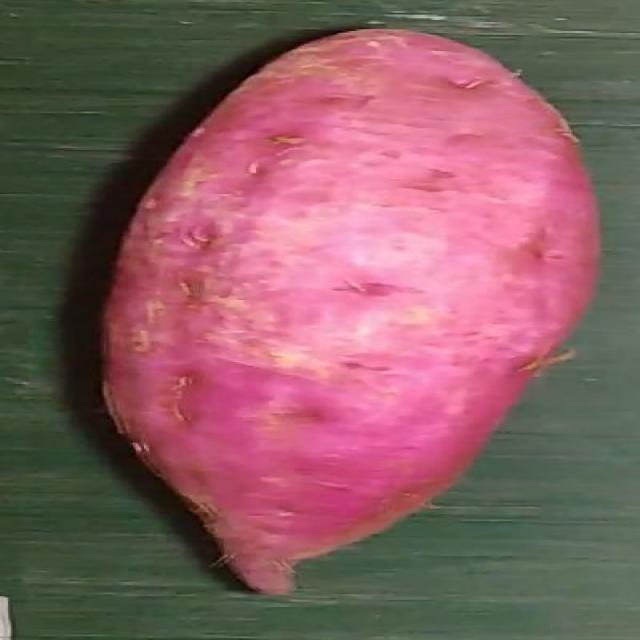Sweet Potato: (102, 27, 600, 598)
